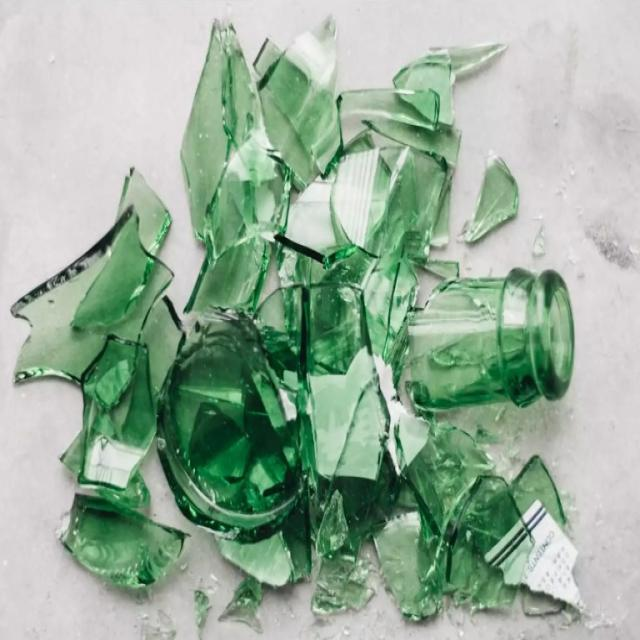Anorganik: (0, 14, 586, 640)
